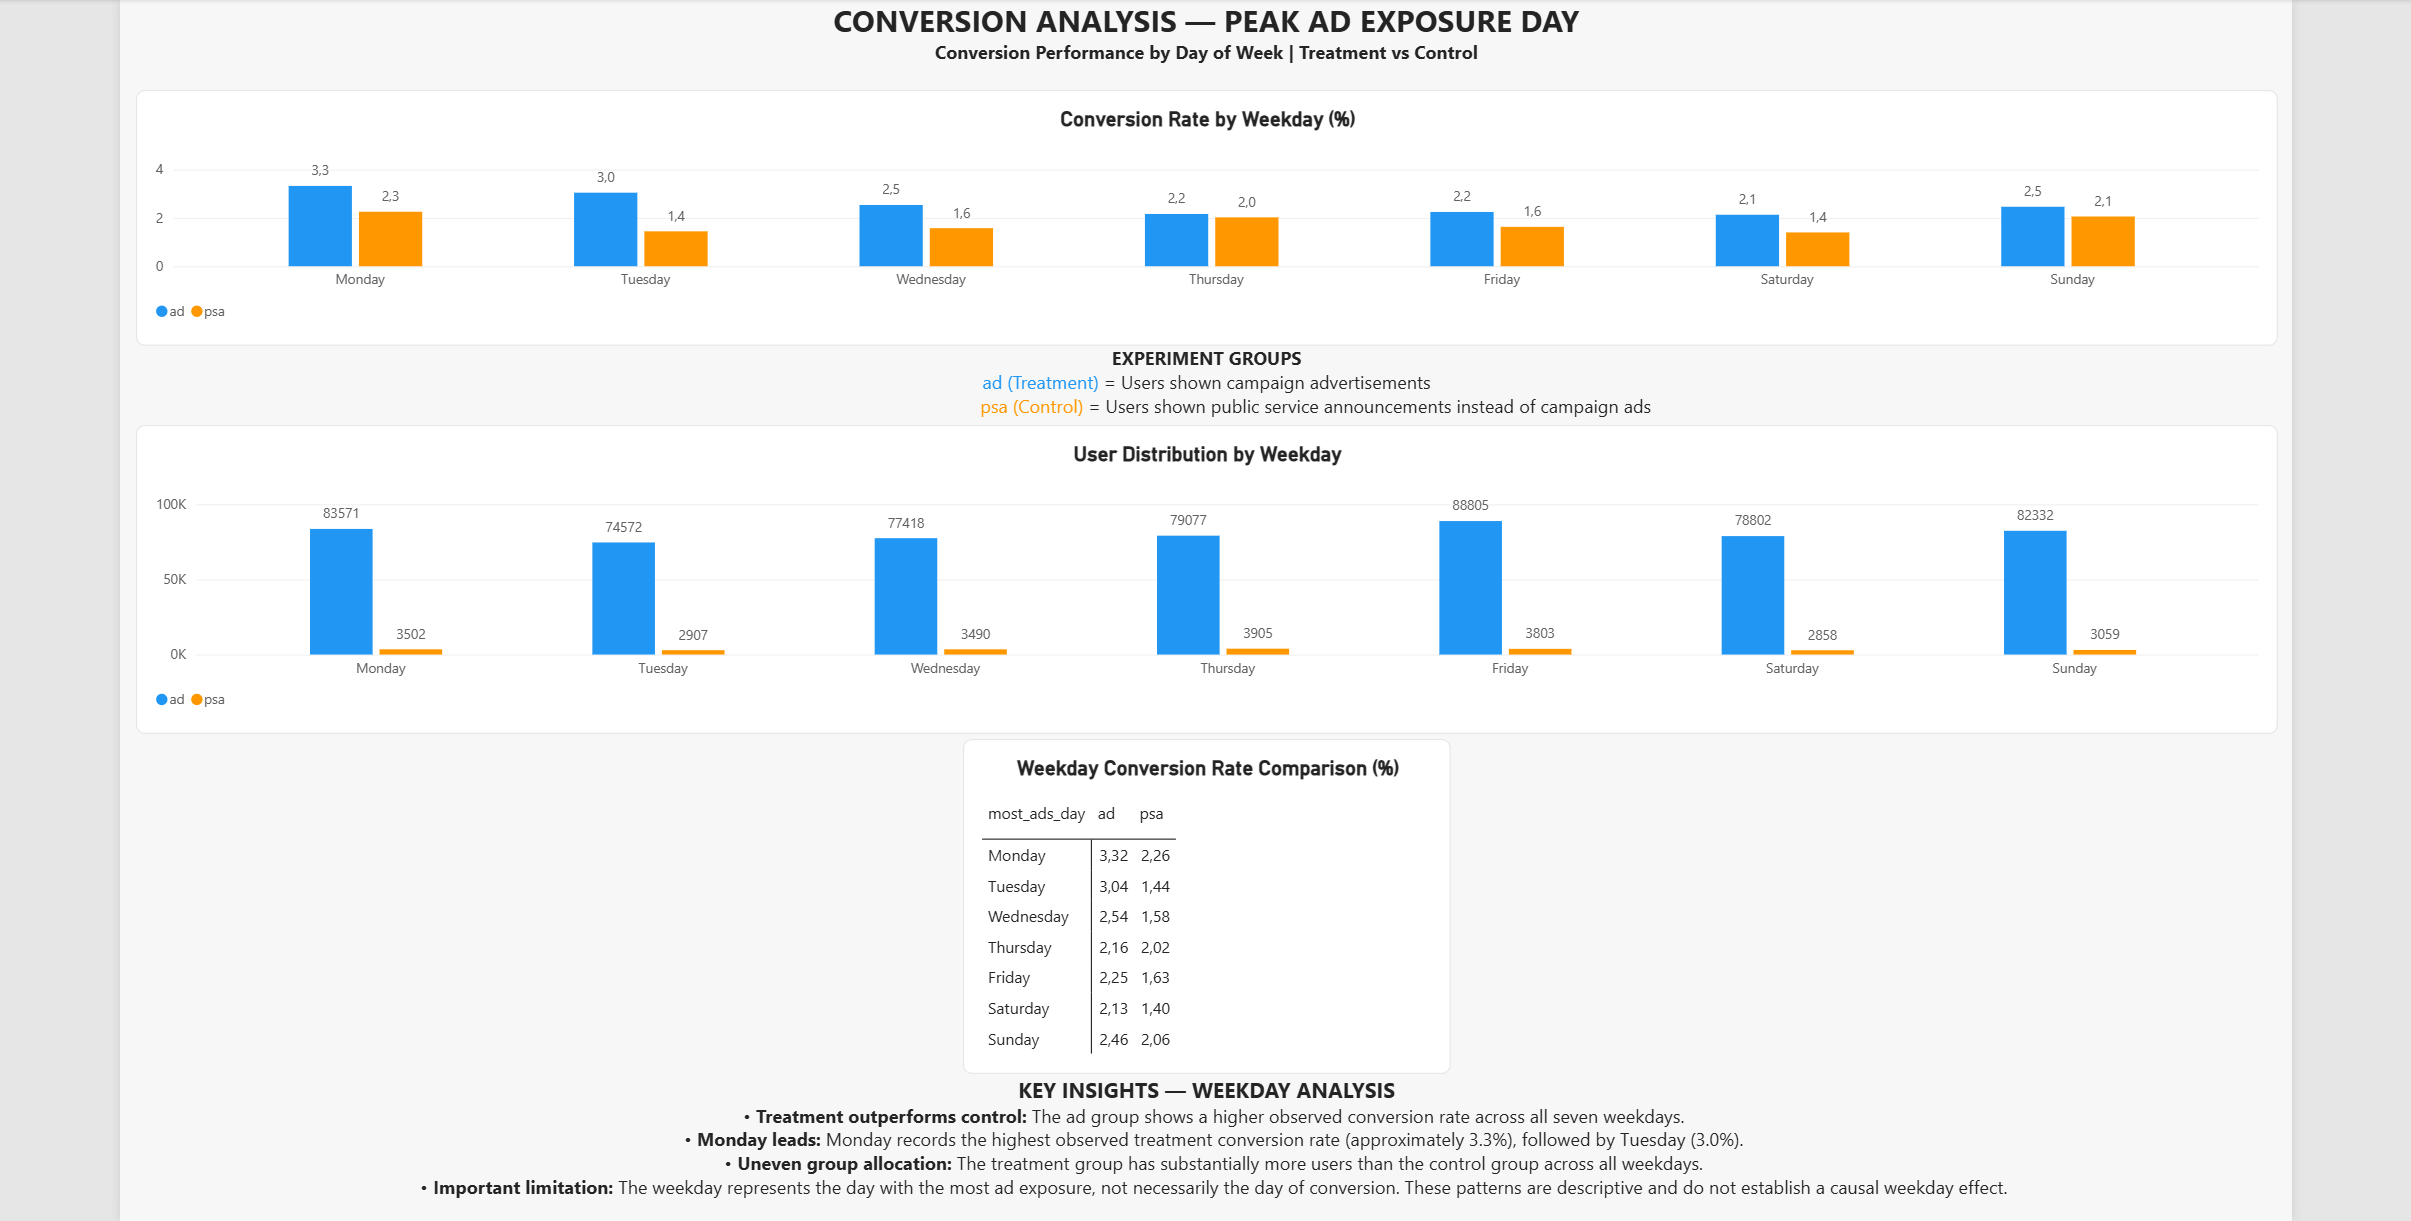

This screenshot's page, from the dashboard's own definition file:
{"tool":"powerbi","page":{"name":"03 | Daily Conversion Analysis","canvas":[1920,1080],"ordinal":2},"visuals":[{"type":"textbox","box":[14,0,1892.1,80.2],"z":0},{"type":"clusteredColumnChart","title":"Conversion Rate by Weekday (%)","fields":{"Category":["ab_test_daily.most_ads_day"],"Series":["ab_test_daily.test_group"],"Y":["Sum(ab_test_daily.conversion_rate_pct)"]},"box":[13.7,80.5,1892.5,225.8],"z":1000},{"type":"textbox","box":[13.7,306.3,1892.5,70.7],"z":2000},{"type":"clusteredColumnChart","title":"User Distribution by Weekday","fields":{"Category":["ab_test_daily.most_ads_day"],"Series":["ab_test_daily.test_group"],"Y":["Sum(ab_test_daily.users)"]},"box":[13.7,376.9,1892.5,272.9],"z":3000},{"type":"textbox","box":[13.7,951.2,1892.5,128.6],"z":4000},{"type":"pivotTable","title":"Weekday Conversion Rate Comparison (%)","fields":{"Columns":["ab_test_daily.test_group"],"Rows":["ab_test_daily.most_ads_day"],"Values":["Avg(ab_test_daily.conversion_rate_pct)"]},"box":[744.6,654,430.7,296.5],"z":5000}]}

Visuals, with their boxes on the page's 1920x1080 design canvas (x1, y1, x2, y2). These are canvas units, not pixel positions in the 2411x1221 screenshot, which may show the page scaled, cropped or inside an application window:
textbox: region(14, 0, 1906, 80)
"Conversion Rate by Weekday (%)" clusteredColumnChart: region(14, 80, 1906, 306)
textbox: region(14, 306, 1906, 377)
"User Distribution by Weekday" clusteredColumnChart: region(14, 377, 1906, 650)
textbox: region(14, 951, 1906, 1080)
"Weekday Conversion Rate Comparison (%)" pivotTable: region(745, 654, 1175, 950)
